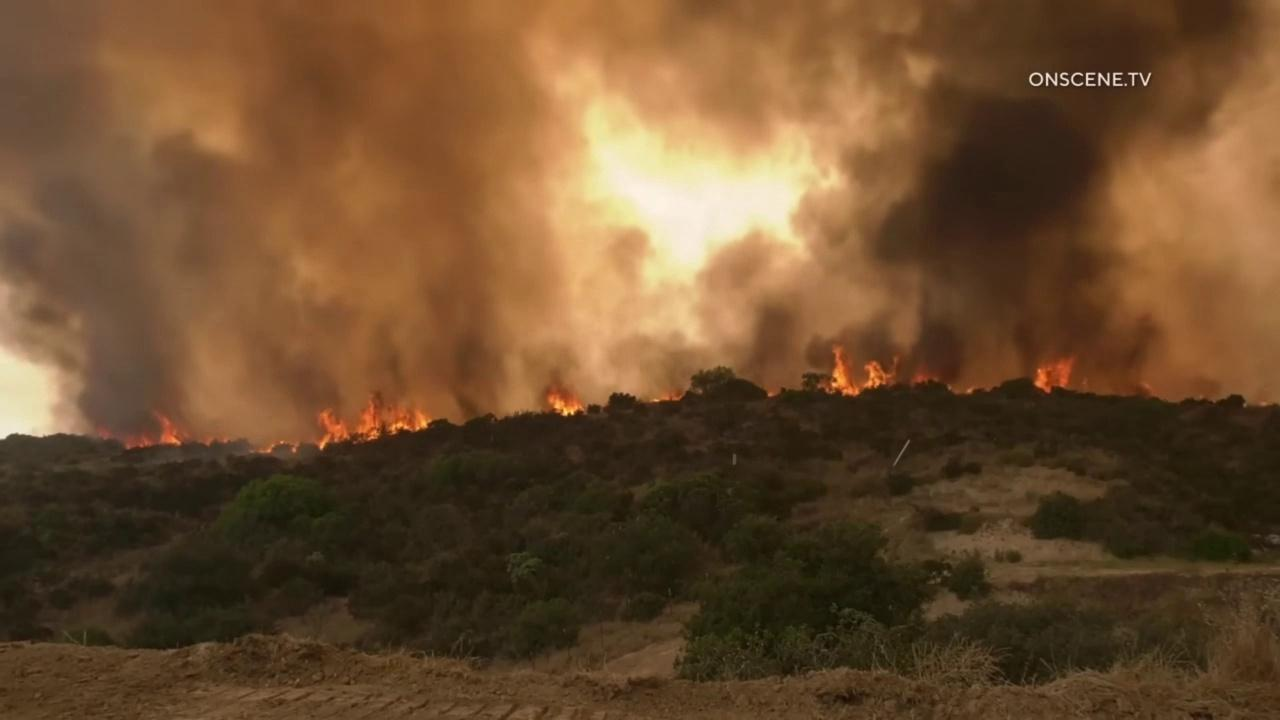fire: (316, 393, 431, 452), (817, 343, 899, 399), (95, 410, 183, 449), (1030, 353, 1077, 394), (547, 387, 586, 418), (249, 438, 301, 454), (911, 362, 930, 387), (197, 435, 228, 448), (966, 384, 995, 396), (650, 397, 661, 402), (768, 391, 774, 397)
smoke: (0, 0, 1280, 466)
